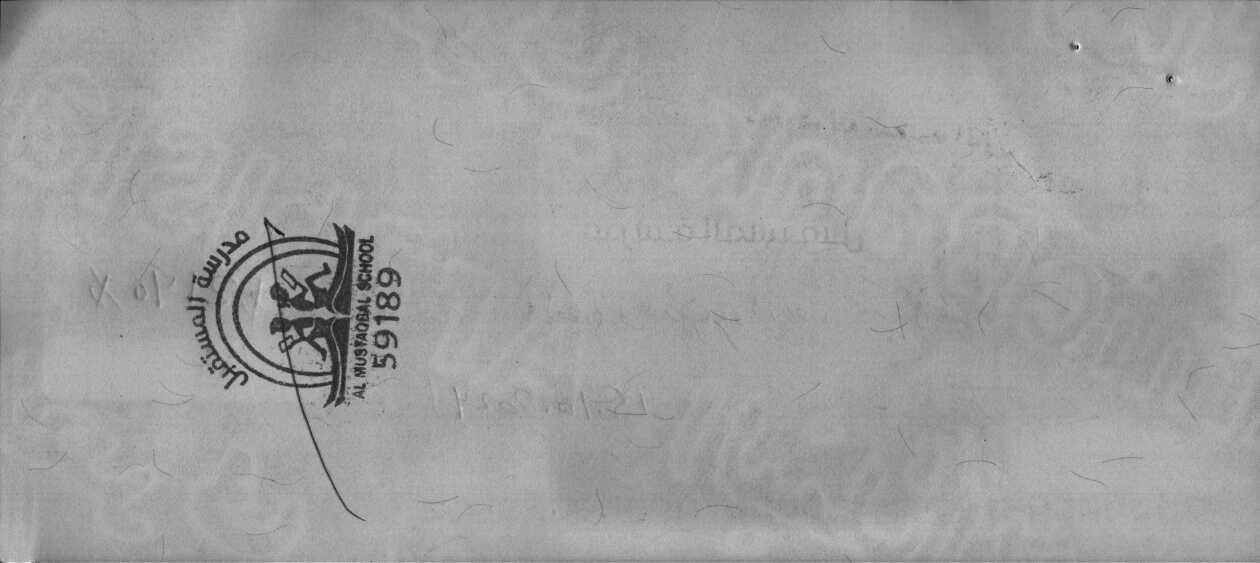stamp: (173, 207, 414, 408)
